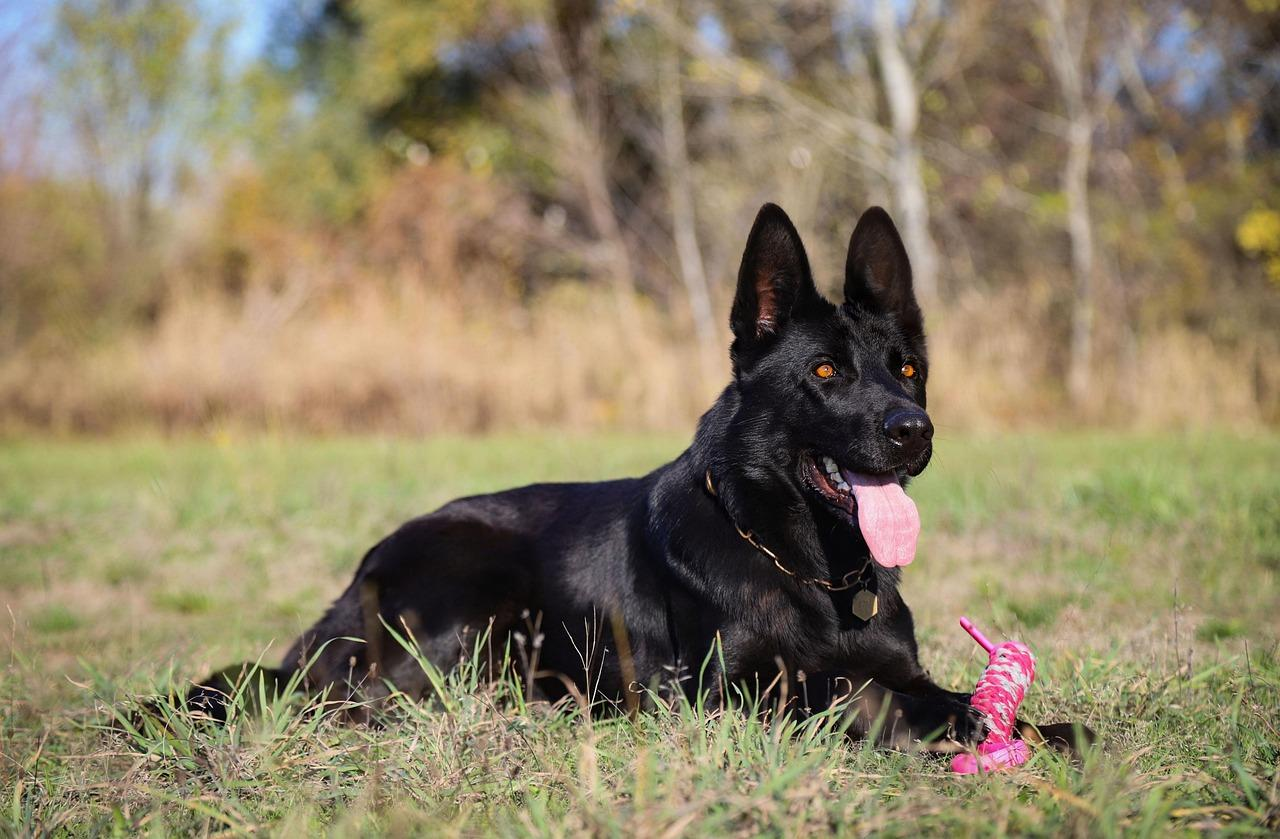german_shepherd: (706, 195, 971, 579)
